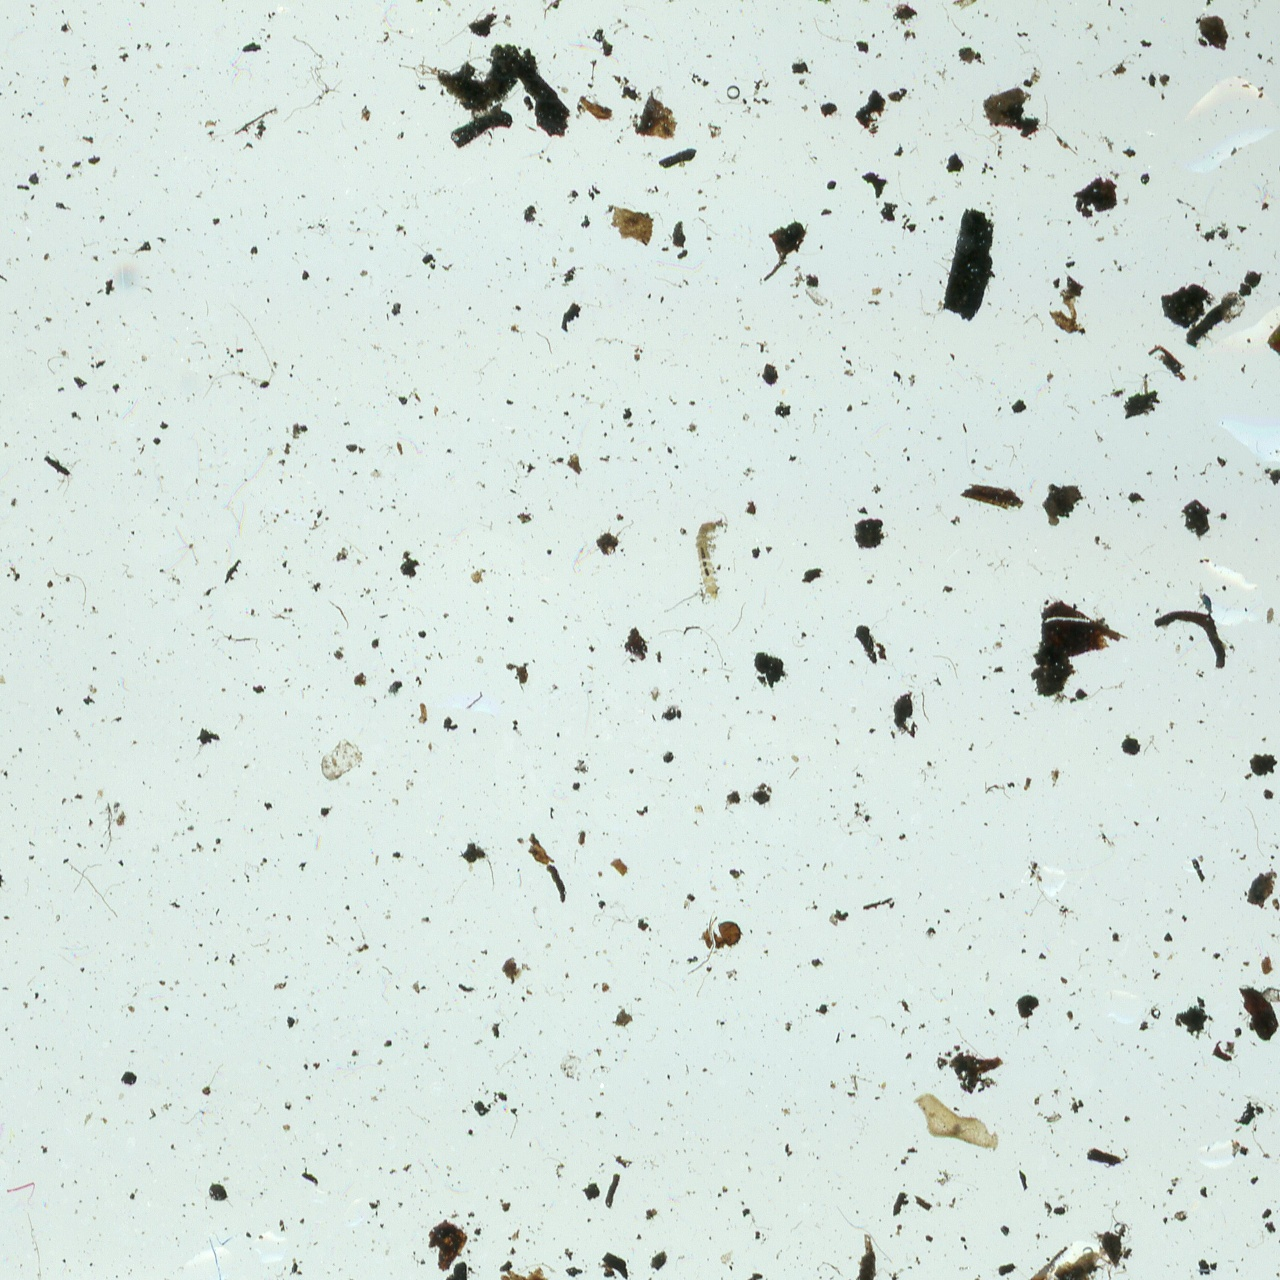arthropod: (695, 520, 722, 601)
